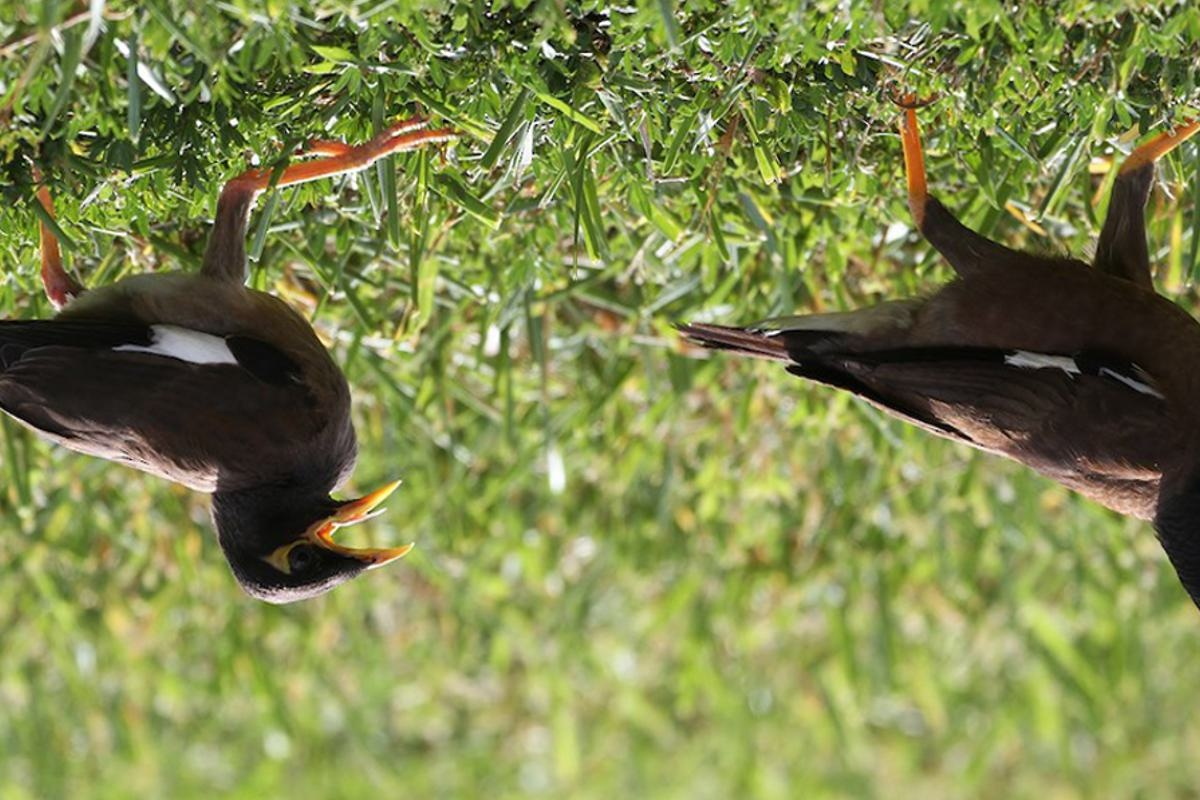myna: (24, 122, 486, 634)
